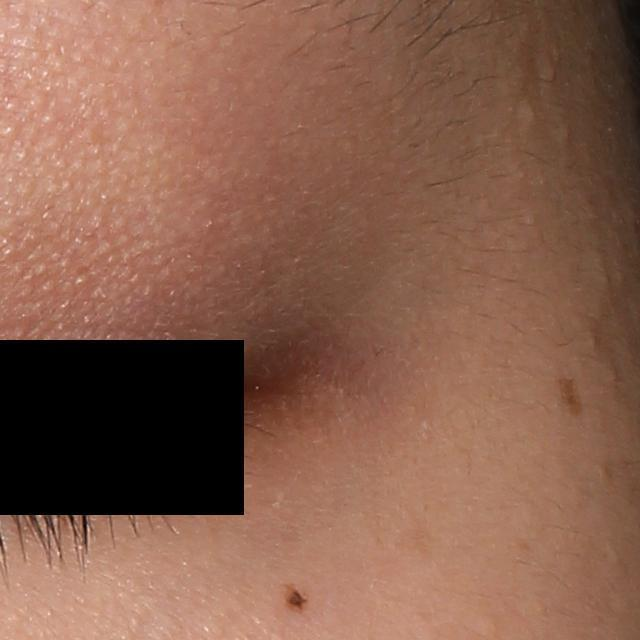comedo: (520, 98, 540, 128)
melasma: (557, 372, 582, 422)
nevus: (284, 579, 307, 613)
